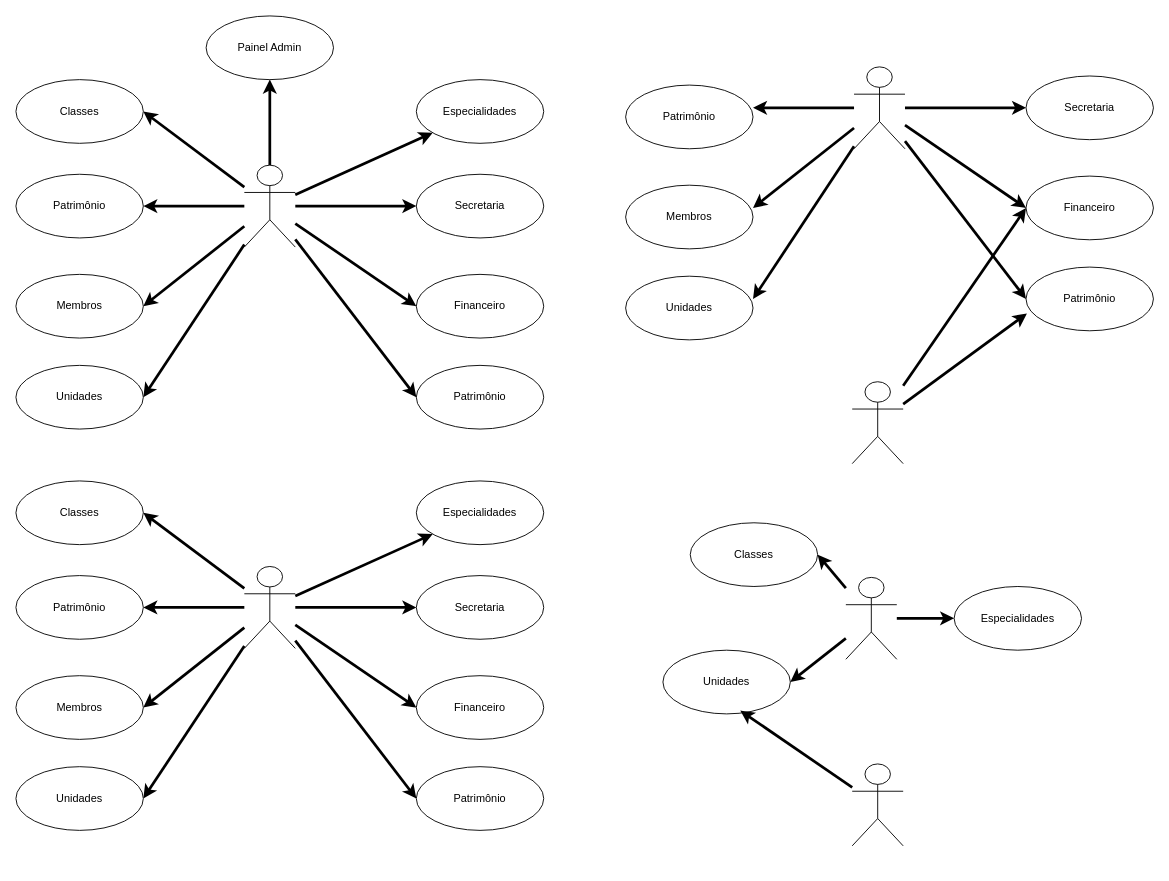
The diagram is 1169 pixels wide and 881 high, and some of its shapes have lost their labels. Here are the shapes that lost their labels. From the top down, the box of each, then its label:
(853, 66, 905, 149): Secretário
(243, 164, 295, 247): Admin
(851, 381, 903, 464): Tesoureiro
(243, 566, 295, 648): Diretor
(845, 576, 897, 659): Instrutor
(851, 763, 903, 846): Conselheiro
